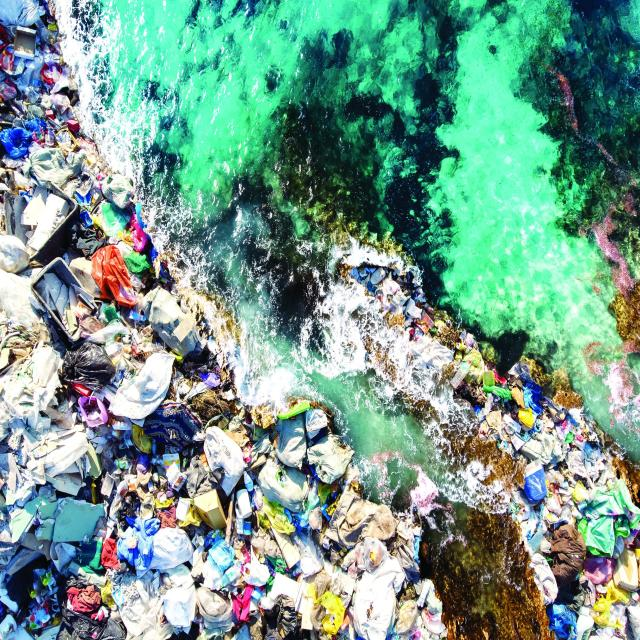algal: (57, 0, 639, 516)
plastic watse: (0, 0, 639, 639)
